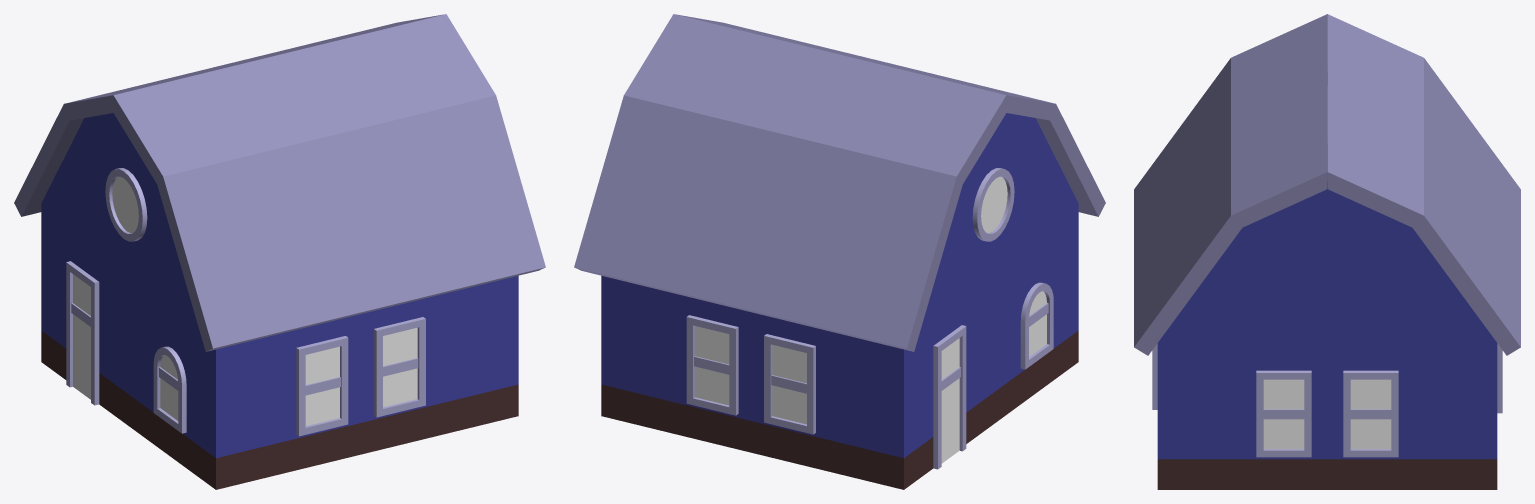
File: house3.fbx
3 views of the same model, side by side, from view 1: azimuth 30°, elevation 25°; view 2: azimuth 150°, elevation 25°; view 3: azimuth 270°, elevation 25° (orthographic). The views are drawn at different scales.
Parts seen in each view (by area): view 1: roof_barnHalf (×4), block (×3), window_double, door, window_rounded, window_round; view 2: roof_barnHalf (×4), block (×3), window_double, door, window_rounded, window_round; view 3: roof_barnHalf (×4), block (×2), window_double.
Part boxes in pixels (<box>): roof_barnHalf (×4): <box>14,14,545,351</box>; block (×3): <box>41,204,518,489</box>; window_double: <box>296,317,425,436</box>; door: <box>66,261,99,405</box>; window_rounded: <box>153,346,186,433</box>; window_round: <box>105,168,147,241</box>; roof_barnHalf (×4): <box>574,14,1105,351</box>; block (×3): <box>601,204,1078,489</box>; window_double: <box>686,315,815,434</box>; door: <box>933,325,966,469</box>; window_rounded: <box>1020,282,1053,369</box>; window_round: <box>972,168,1014,241</box>; roof_barnHalf (×4): <box>1134,14,1520,355</box>; block (×2): <box>1157,336,1497,489</box>; window_double: <box>1256,370,1398,457</box>.
Size of the model in its own units: 11 by 10.56 by 11.39.
